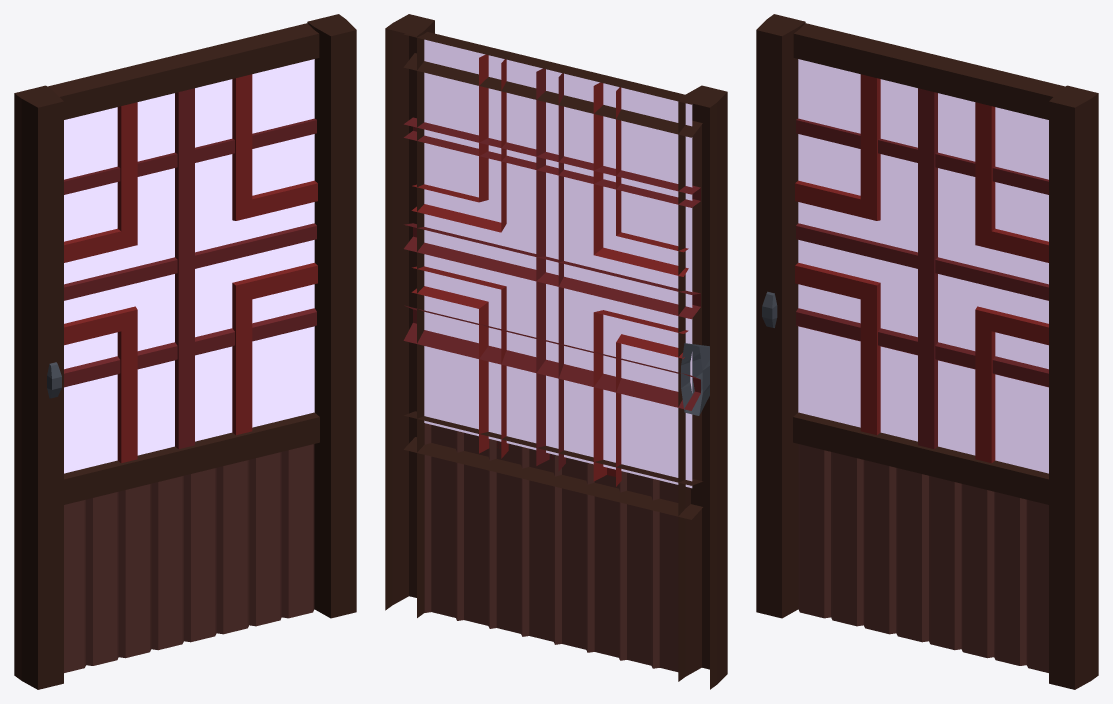
File: Door_2_2  Asia.fbx
The picture shows the model from 3 angles, left to right: view 1: azimuth 30°, elevation 25°; view 2: azimuth 150°, elevation 25°; view 3: azimuth 330°, elevation 25°; orthographic projection.
Visible parts, largest first — view 1: Door_2_2; view 2: Door_2_2; view 3: Door_2_2.
Part boxes in pixels (x1,y1,x2,y2): Door_2_2: [14, 14, 356, 689]; Door_2_2: [385, 14, 727, 689]; Door_2_2: [756, 14, 1098, 689].
Size of the model in its own units: 1.14 by 1.96 by 0.1516.
